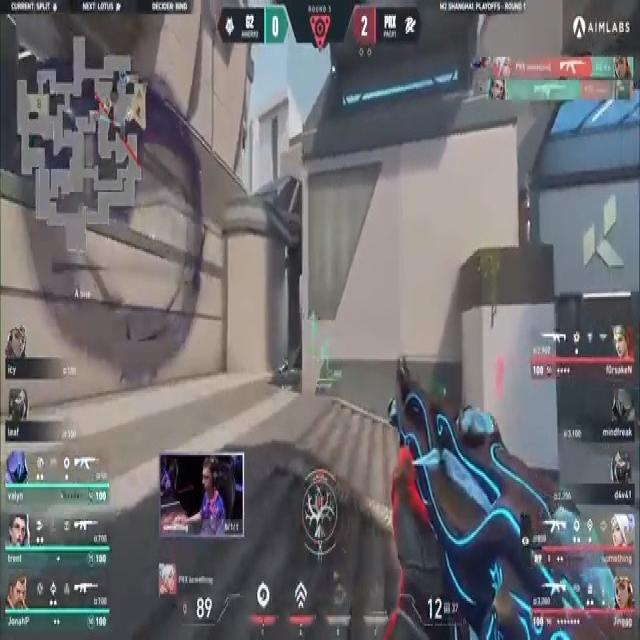ally behind wall: (307, 308, 319, 361), (320, 334, 329, 379)
enemy behind wall: (494, 351, 506, 402)
